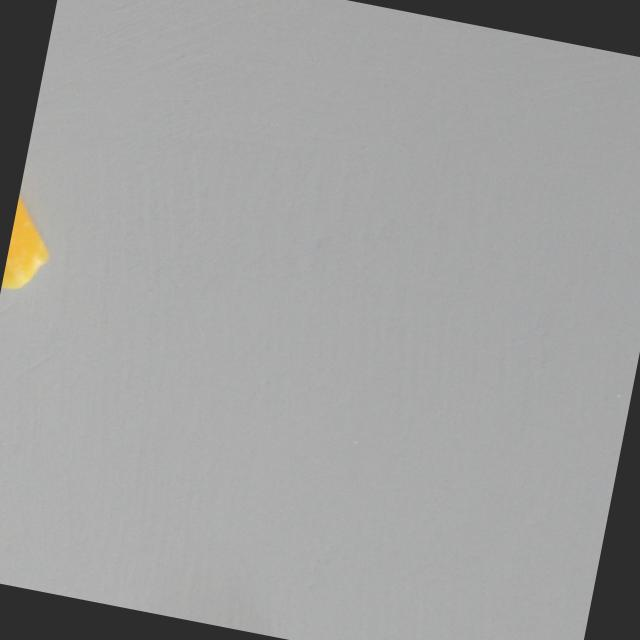estandar: (0, 171, 63, 297)
